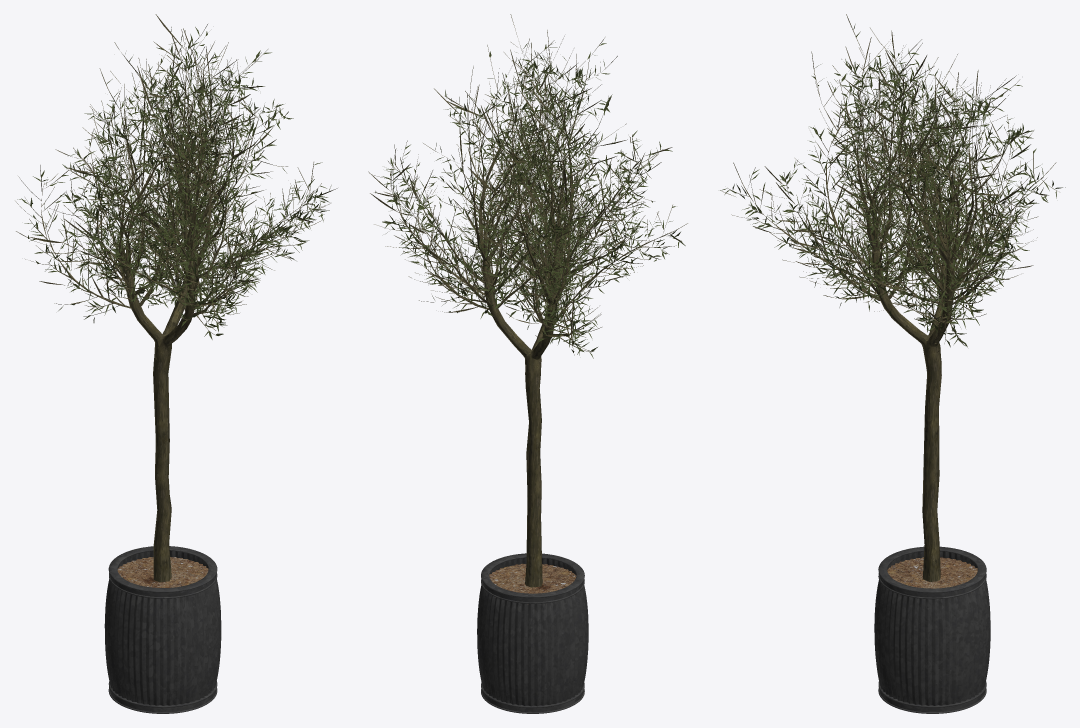
The picture shows the model from 3 angles, left to right: view 1: azimuth 30°, elevation 25°; view 2: azimuth 150°, elevation 25°; view 3: azimuth 270°, elevation 25°; orthographic projection. The views are drawn at different scales.
Parts seen in each view (by area): view 1: Tree_Big, Pot_Big, Ground_Big; view 2: Tree_Big, Pot_Big, Ground_Big; view 3: Tree_Big, Pot_Big, Ground_Big.
Part boxes in pixels (x1,y1,x2,y2): Tree_Big: (15,14,337,582); Pot_Big: (104,546,221,713); Ground_Big: (117,557,208,587); Tree_Big: (368,14,687,587); Pot_Big: (477,553,588,713); Ground_Big: (489,563,576,593); Tree_Big: (720,14,1065,581); Pot_Big: (874,546,990,713); Ground_Big: (887,557,977,588).
Bounding box in the file's own units: 1.47 × 3.12 × 1.48.
Materials: 4 (4 with a texture image).
